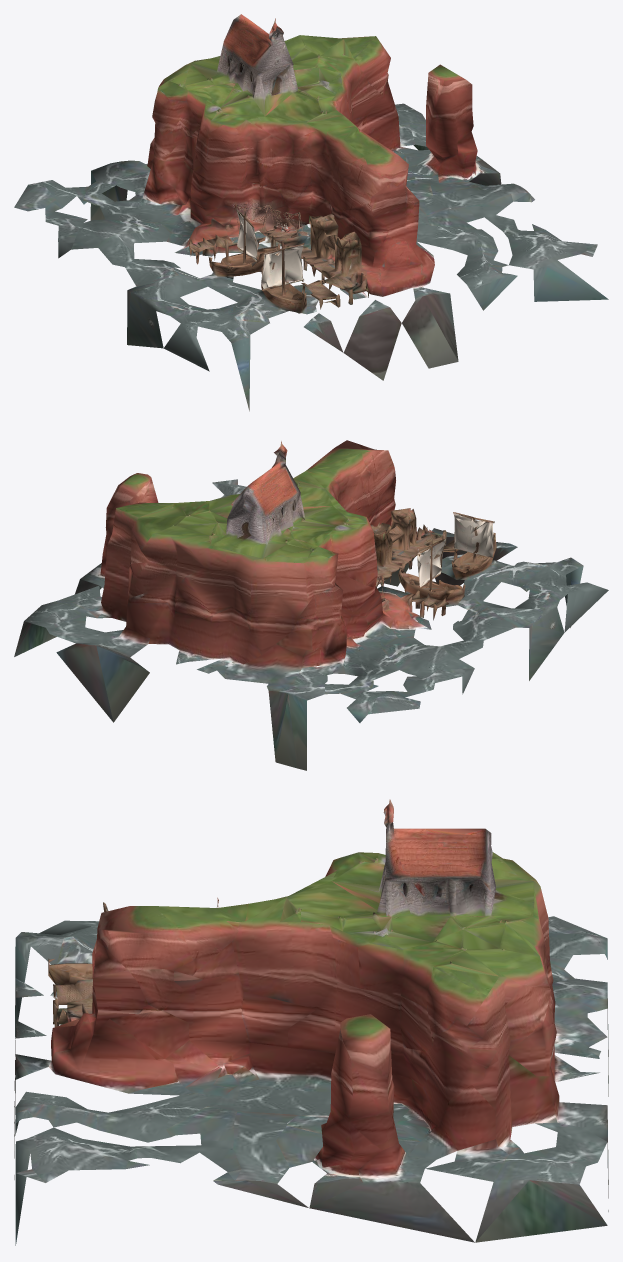
File: m_heligoland_animated.glb
3 renders of one model, top to bottom at view 1: azimuth 30°, elevation 25°; view 2: azimuth 150°, elevation 25°; view 3: azimuth 270°, elevation 25°, orthographic. The views are drawn at different scales.
Visible parts, largest first — view 1: m_heligoland_Living_Scenery; view 2: m_heligoland_Living_Scenery; view 3: m_heligoland_Living_Scenery.
Part boxes in pixels (left/top/right/bottom): m_heligoland_Living_Scenery: left=14, top=14, right=608, bottom=411; m_heligoland_Living_Scenery: left=14, top=440, right=608, bottom=770; m_heligoland_Living_Scenery: left=14, top=799, right=608, bottom=1245.
Size of the model in its own units: 1 by 0.6147 by 0.9376.
Materials: 1 (1 with a texture image).
